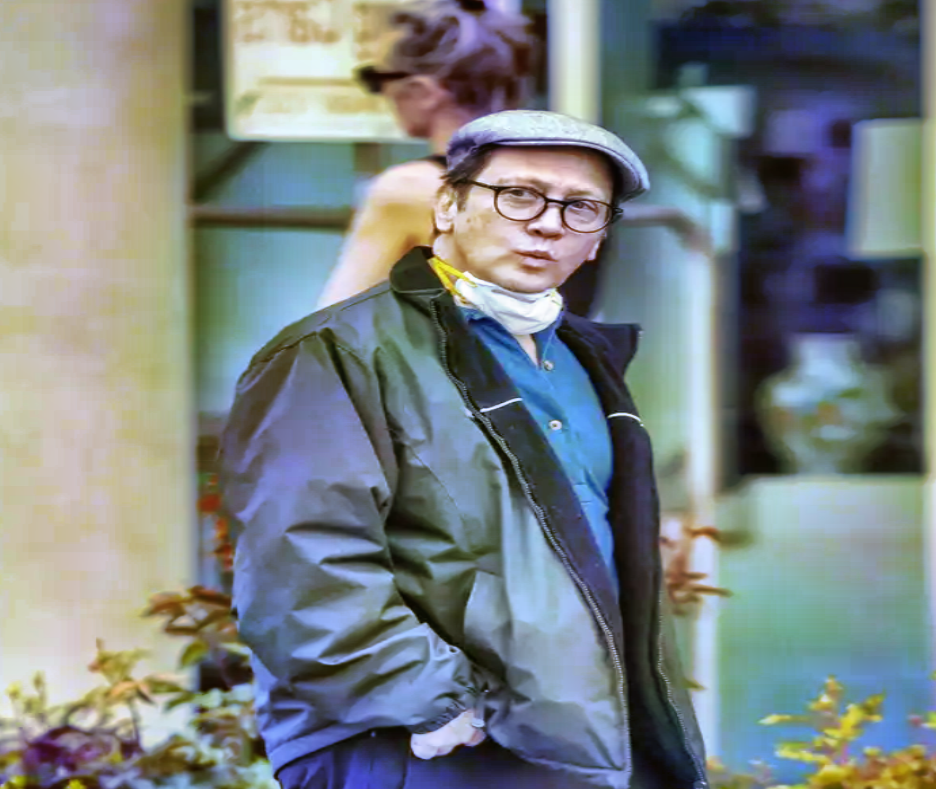mask_weared_incorrect: (408, 104, 651, 339)
